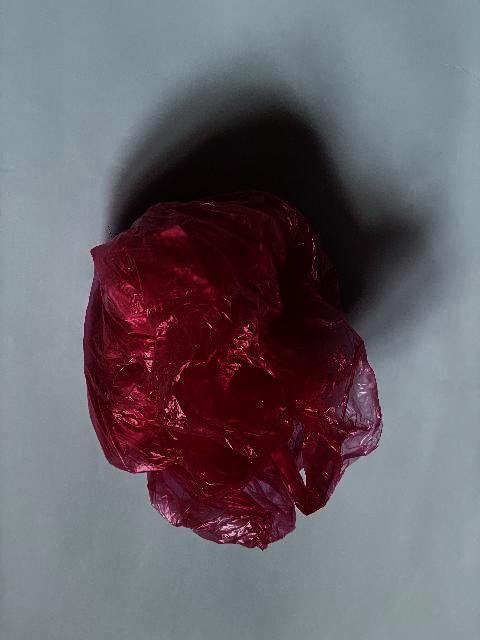plasticbag: (83, 186, 383, 552)
